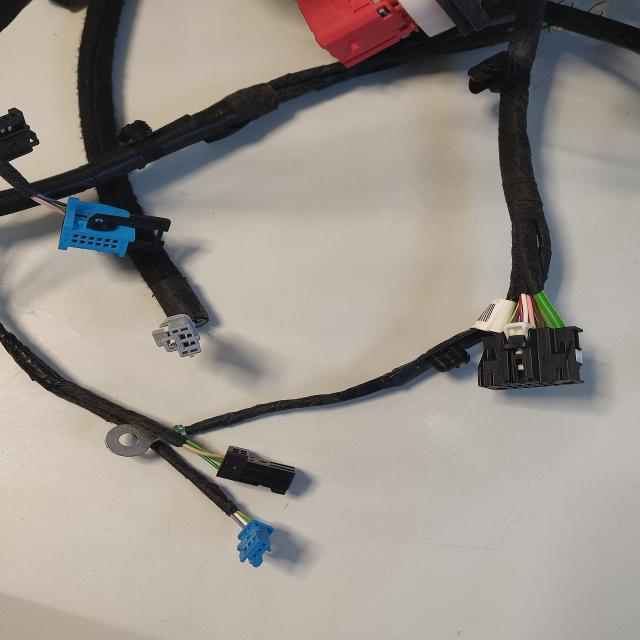cable: (0, 0, 639, 298), (186, 321, 503, 449), (122, 220, 209, 339)
connector: (474, 324, 583, 391), (57, 196, 141, 264), (215, 444, 298, 497), (148, 308, 206, 367), (232, 516, 277, 569)
